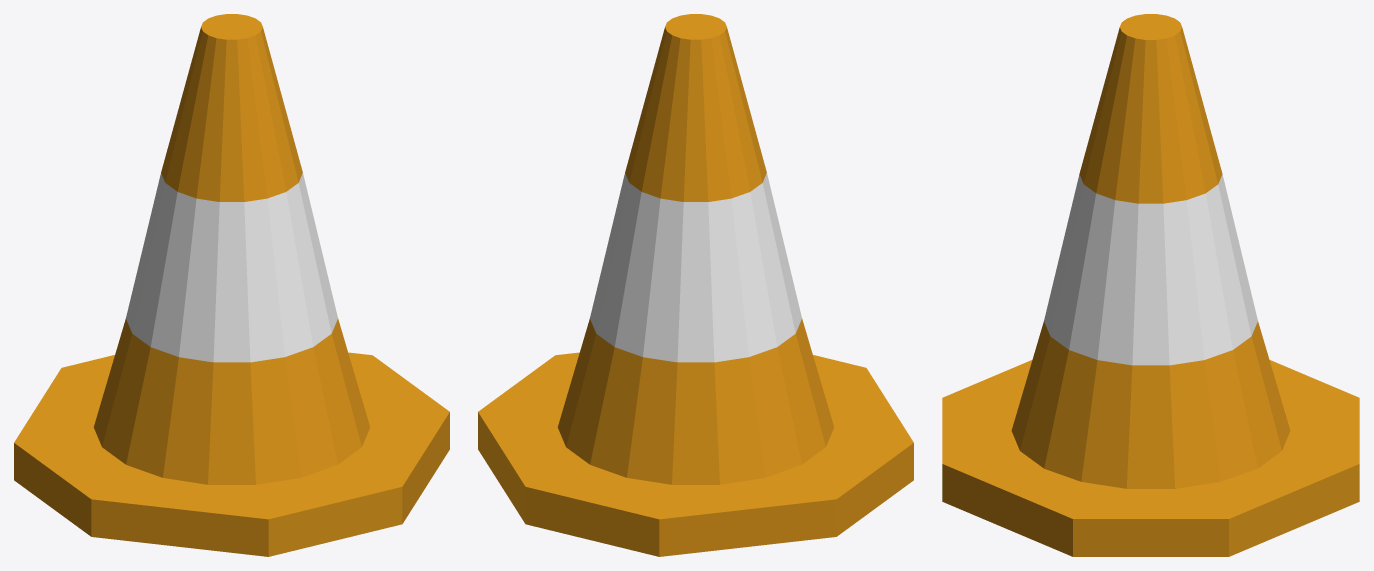
3 views of the same model, side by side, from view 1: azimuth 30°, elevation 25°; view 2: azimuth 150°, elevation 25°; view 3: azimuth 270°, elevation 25° (orthographic).
Visible parts, largest first — view 1: cone; view 2: cone; view 3: cone.
Boxes of the visible parts, x1,y1,x2,y2 form: cone: [14, 14, 449, 556]; cone: [478, 14, 913, 556]; cone: [942, 14, 1359, 556].
Bounding box in the file's own units: 0.4293 × 0.501 × 0.4293.
Materials: 1 (1 with a texture image).
